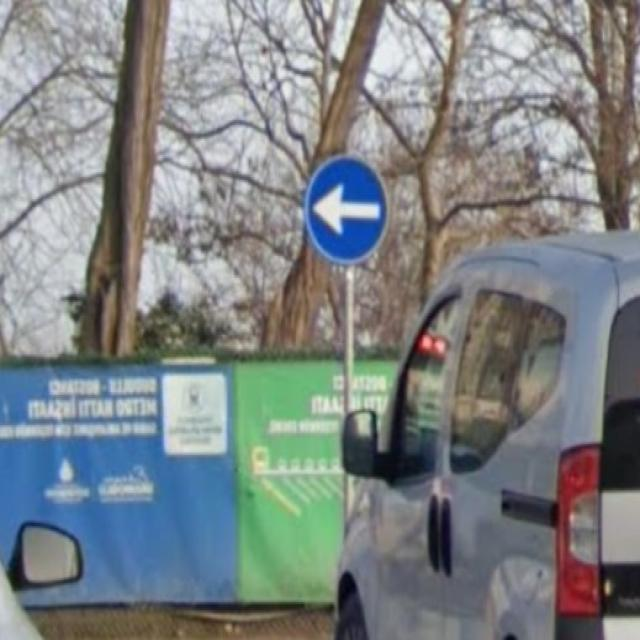Turn Left: (300, 157, 391, 257)
